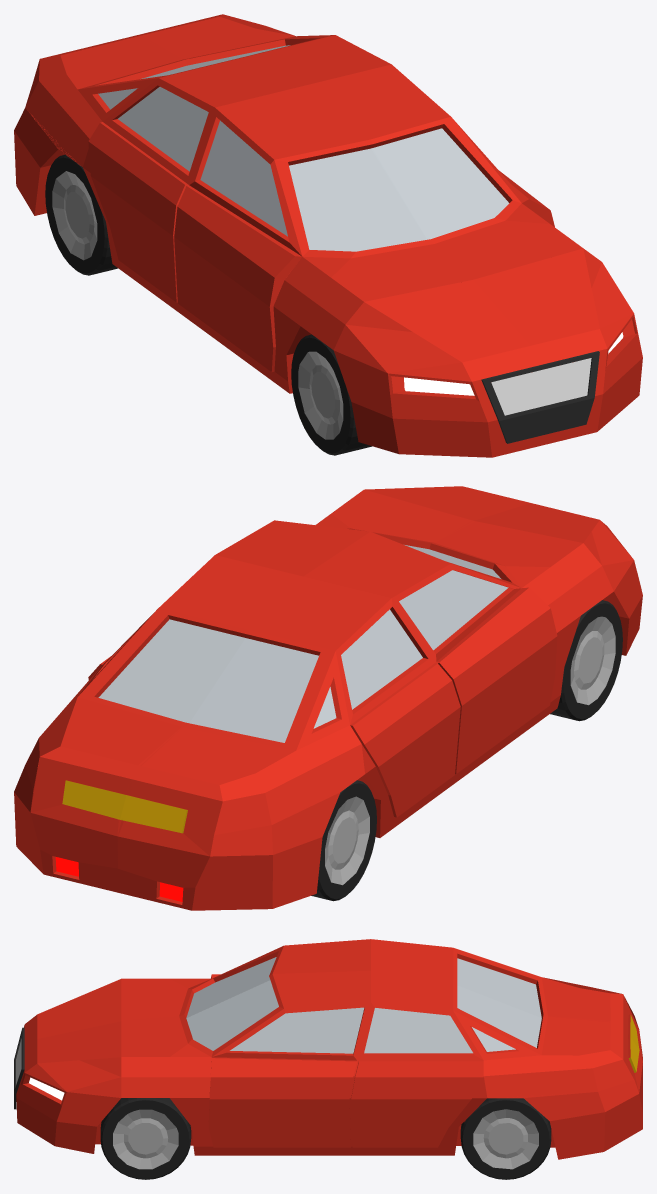
The model's file is car.fbx.
3 renders of one model, top to bottom at view 1: azimuth 30°, elevation 25°; view 2: azimuth 150°, elevation 25°; view 3: azimuth 270°, elevation 25°, orthographic. The views are drawn at different scales.
Parts seen in each view (by area): view 1: Car; view 2: Car; view 3: Car.
Boxes of the visible parts, left/top/right/bottom form: Car: left=14, top=14, right=642, bottom=457; Car: left=14, top=486, right=642, bottom=910; Car: left=14, top=939, right=642, bottom=1179.
Bounding box in the file's own units: 105 × 76.65 × 271.
